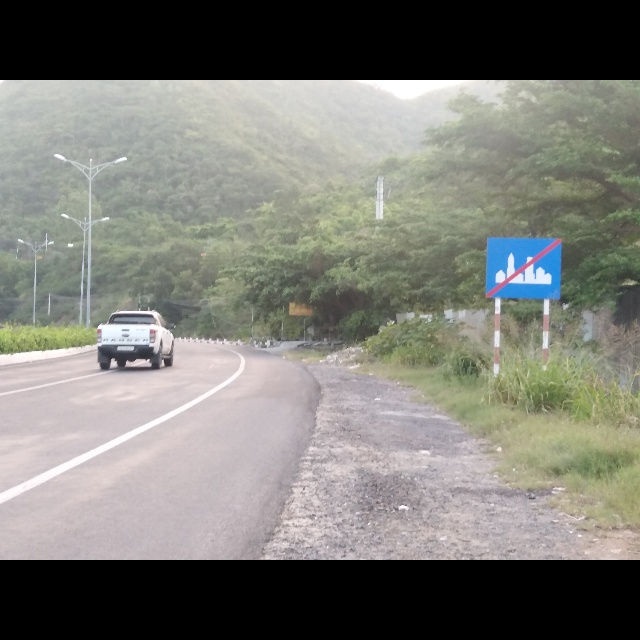Hết khu đông dân cư: (485, 232, 564, 299)
